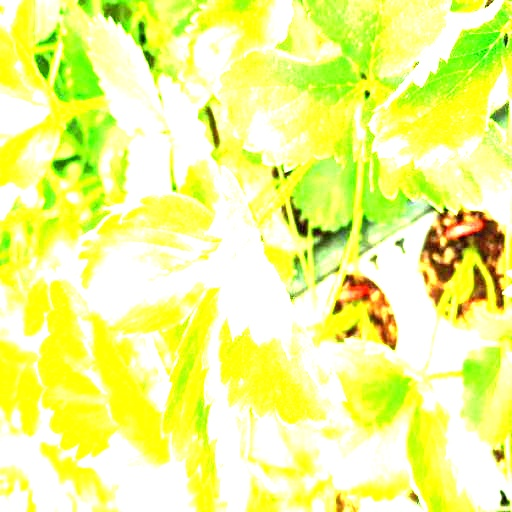Powdery Mildew Leaf: (205, 165, 348, 428), (367, 0, 511, 169), (160, 285, 250, 511)
